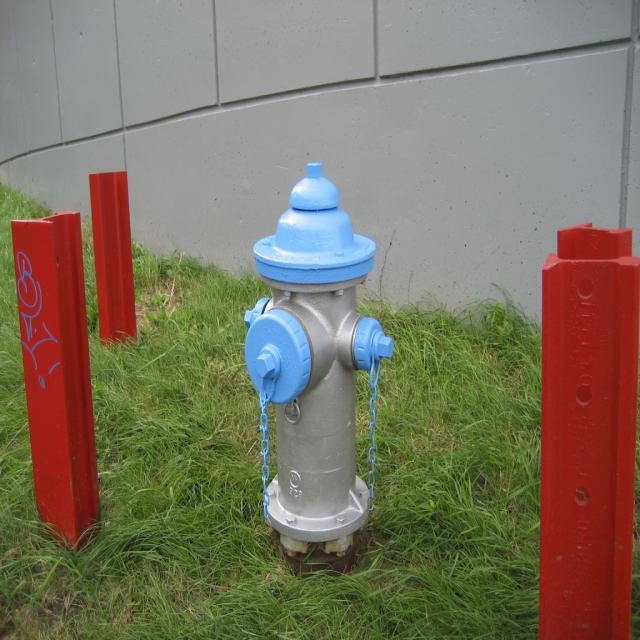fire_hydrant: (244, 166, 394, 566)
